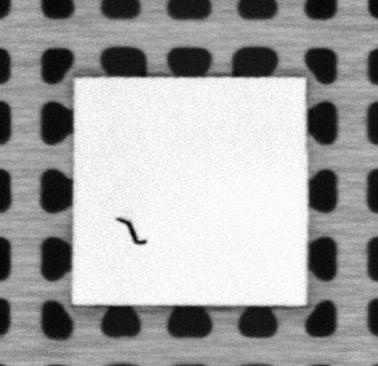DIE_INK: (116, 214, 147, 245)
